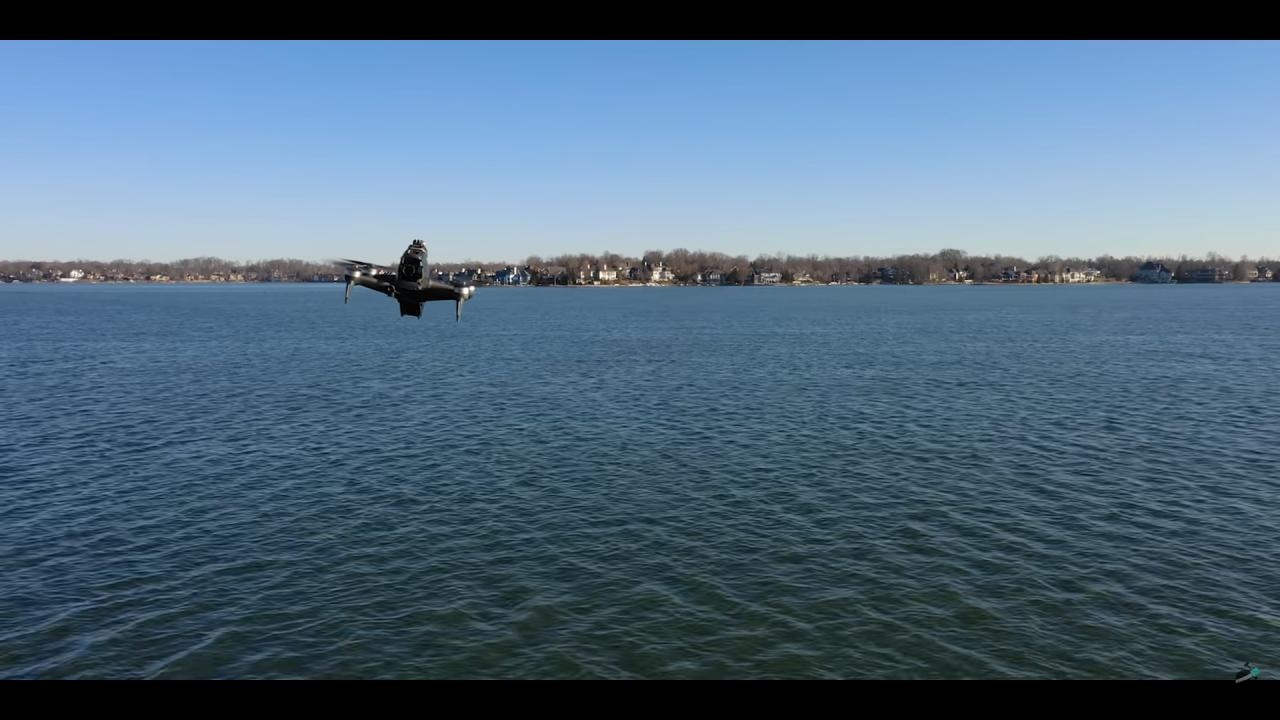Drone: (323, 230, 492, 333)
